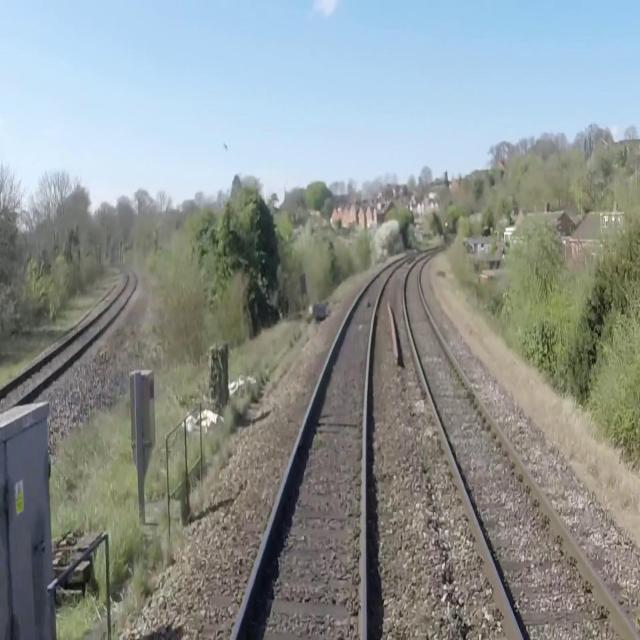rail-track: (404, 250, 637, 639), (234, 253, 415, 639)
